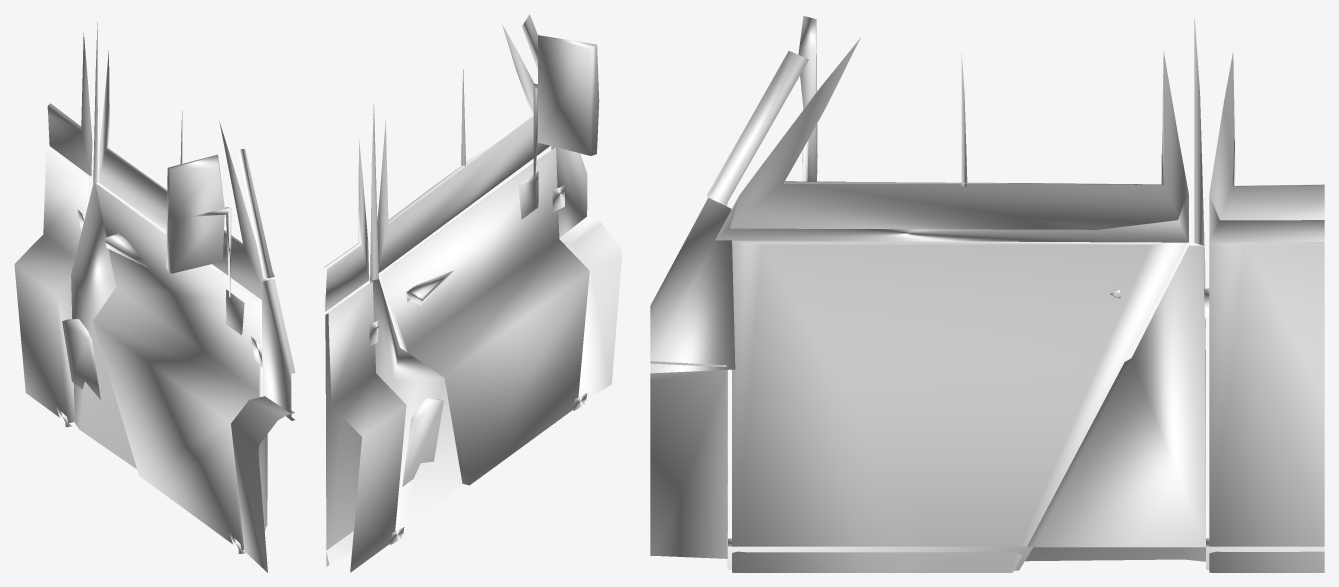
3 renders of one model, left to right at view 1: azimuth 30°, elevation 25°; view 2: azimuth 150°, elevation 25°; view 3: azimuth 270°, elevation 25°, orthographic. The views are drawn at different scales.
Bounding box in the file's own units: 0.1896 × 1.03 × 1.12.
1 material, 1 textured.
